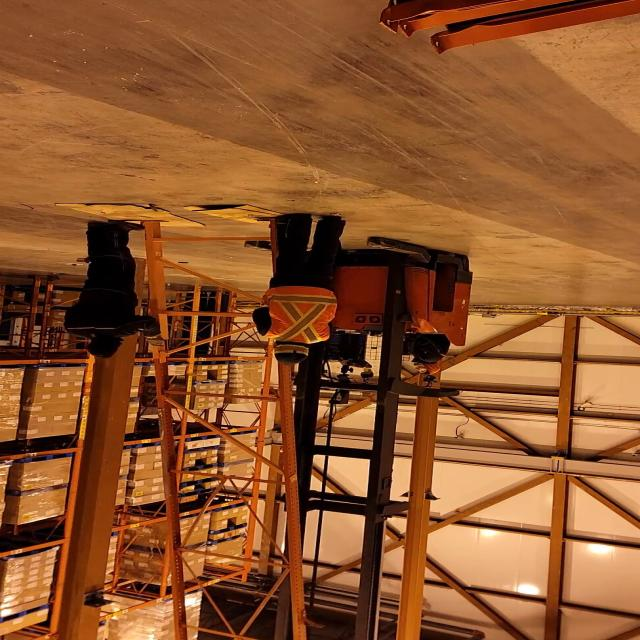forklift: (234, 234, 483, 518)
human: (60, 214, 170, 364), (248, 212, 350, 365), (400, 336, 454, 379)
objectofinterest: (126, 217, 316, 640), (42, 201, 208, 235), (182, 205, 310, 227)
